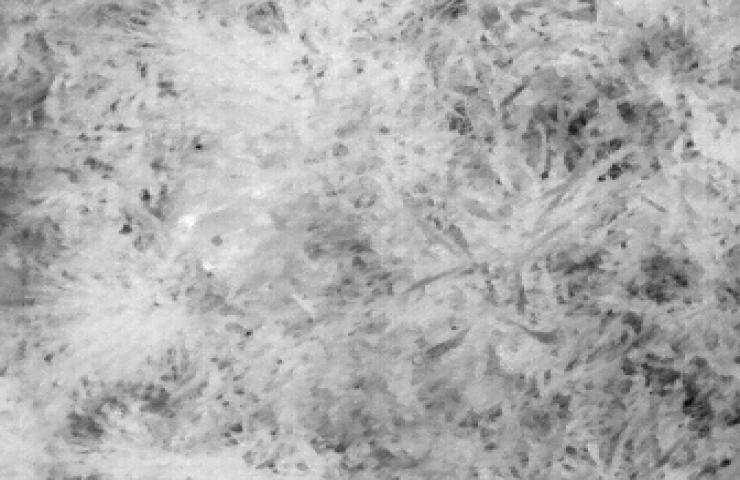landmines: (176, 201, 265, 275)
